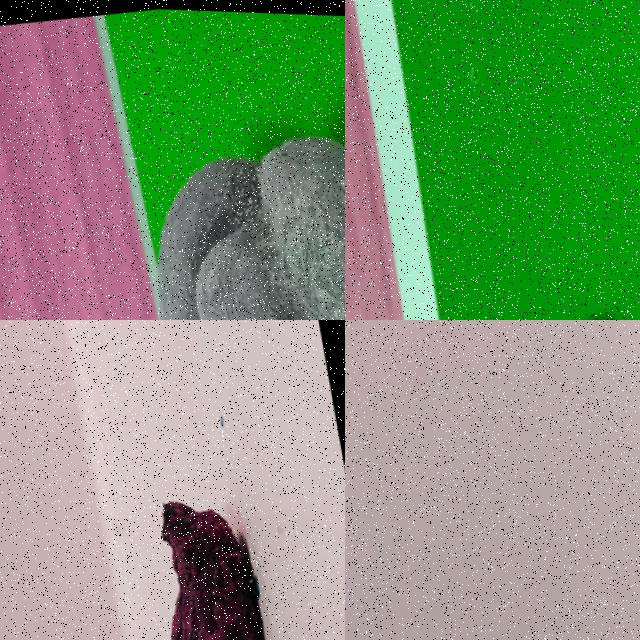Agglomerated_cocoabeans: (93, 45, 344, 319)
Flat_cocoabeans: (115, 448, 321, 639), (488, 164, 639, 319)
